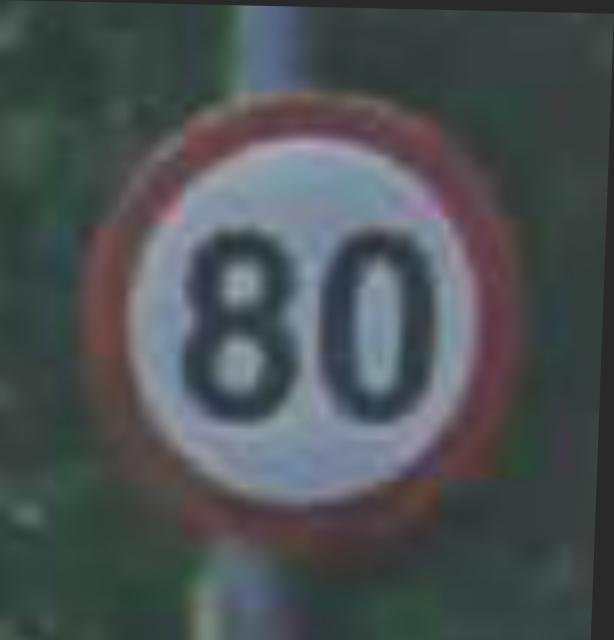limit80: (83, 58, 540, 529)
